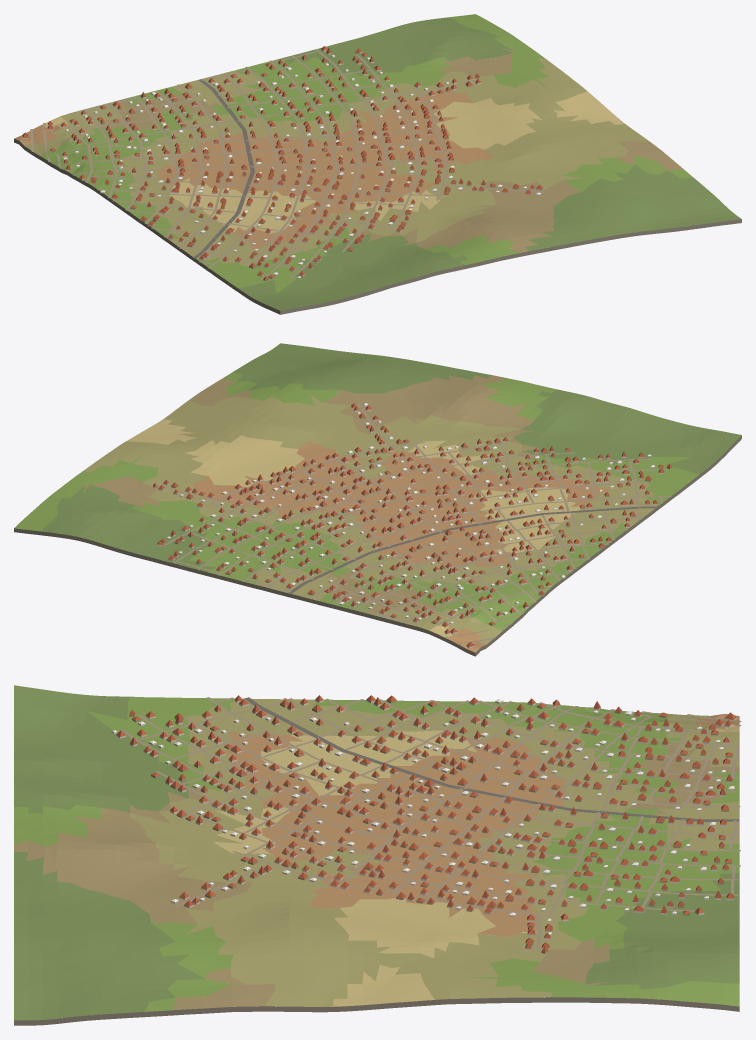
Rendered from parca_+0_-1-uzak.glb.
The picture shows the model from 3 angles, top to bottom: view 1: azimuth 30°, elevation 25°; view 2: azimuth 150°, elevation 25°; view 3: azimuth 270°, elevation 25°; orthographic projection. The views are drawn at different scales.
Visible parts, largest first — view 1: parca_+0_-1_arazi_uzak, parca_+0_-1_yapilar_uzak, parca_+0_-1_yollar_uzak; view 2: parca_+0_-1_arazi_uzak, parca_+0_-1_yapilar_uzak, parca_+0_-1_yollar_uzak; view 3: parca_+0_-1_arazi_uzak, parca_+0_-1_yapilar_uzak, parca_+0_-1_yollar_uzak.
Boxes of the visible parts, <box> form: parca_+0_-1_arazi_uzak: <box>14,14,741,314</box>; parca_+0_-1_yapilar_uzak: <box>22,46,542,281</box>; parca_+0_-1_yollar_uzak: <box>30,49,546,278</box>; parca_+0_-1_arazi_uzak: <box>14,343,741,656</box>; parca_+0_-1_yapilar_uzak: <box>153,403,672,648</box>; parca_+0_-1_yollar_uzak: <box>160,403,671,644</box>; parca_+0_-1_arazi_uzak: <box>14,685,739,1025</box>; parca_+0_-1_yapilar_uzak: <box>111,695,736,953</box>; parca_+0_-1_yollar_uzak: <box>120,697,741,950</box>.
Size of the model in its own units: 1004 by 58.06 by 1003.
